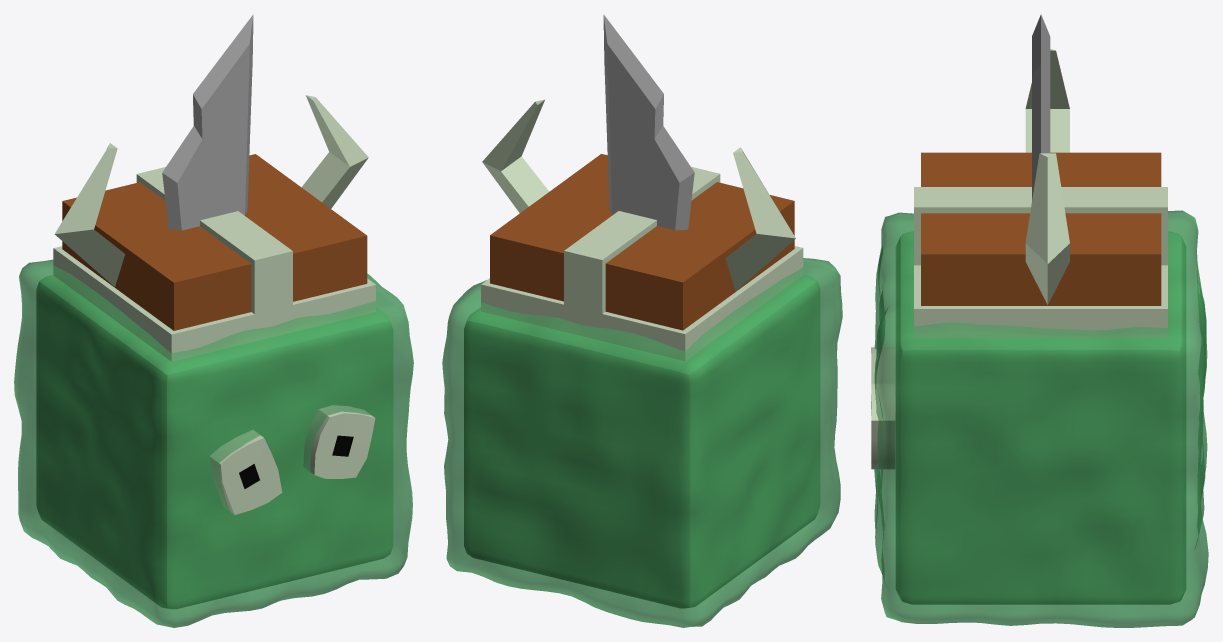
The model's file is Blobby_v2.fbx.
3 renders of one model, left to right at view 1: azimuth 30°, elevation 25°; view 2: azimuth 150°, elevation 25°; view 3: azimuth 270°, elevation 25°, orthographic. The views are drawn at different scales.
Visible parts, largest first — view 1: Jello, Cubo, Hat, Blade, Horns, Eyes, Eyes1; view 2: Jello, Cubo, Hat, Blade, Horns; view 3: Jello, Cubo, Hat, Horns, Blade, Eyes1, Eyes.
Boxes of the visible parts, x1=… form: Jello: x1=14, y1=259, x2=413, y2=627; Cubo: x1=36, y1=275, x2=393, y2=609; Hat: x1=53, y1=154, x2=375, y2=361; Blade: x1=162, y1=14, x2=253, y2=230; Horns: x1=54, y1=95, x2=368, y2=286; Eyes: x1=209, y1=430, x2=282, y2=514; Eyes1: x1=303, y1=405, x2=375, y2=478; Jello: x1=442, y1=258, x2=842, y2=627; Cubo: x1=464, y1=275, x2=820, y2=608; Hat: x1=481, y1=154, x2=803, y2=360; Blade: x1=603, y1=14, x2=694, y2=230; Horns: x1=482, y1=99, x2=795, y2=290; Jello: x1=874, y1=210, x2=1208, y2=627; Cubo: x1=895, y1=231, x2=1186, y2=604; Hat: x1=914, y1=152, x2=1167, y2=337; Horns: x1=1025, y1=49, x2=1069, y2=304; Blade: x1=1032, y1=14, x2=1050, y2=200; Eyes1: x1=871, y1=383, x2=895, y2=469; Eyes: x1=871, y1=347, x2=895, y2=426.
Size of the model in its own units: 10.08 by 16.4 by 8.71.
